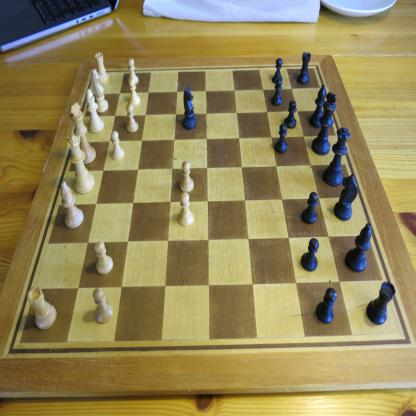black-bishop: (345, 222, 372, 273), (309, 84, 326, 128)
black-king: (312, 92, 337, 156)
black-knight: (333, 172, 358, 221), (182, 86, 197, 130)
black-pawn: (315, 286, 338, 325), (300, 238, 320, 272), (301, 191, 319, 225), (274, 122, 289, 154), (270, 77, 283, 107), (284, 99, 297, 129), (271, 57, 284, 84)
black-queen: (322, 127, 350, 186)
black-rook: (366, 281, 396, 325), (296, 51, 312, 86)
white-bishop: (60, 181, 84, 230), (85, 88, 105, 133)
white-king: (70, 102, 96, 165)
white-knight: (90, 68, 109, 114)
white-pawn: (92, 287, 114, 324), (95, 240, 114, 276), (178, 192, 194, 227), (180, 160, 194, 193), (111, 130, 124, 161), (128, 78, 141, 106), (126, 104, 138, 133), (127, 58, 139, 85)
white-queen: (67, 134, 95, 195)
white-rook: (27, 286, 57, 330), (94, 52, 110, 84)
